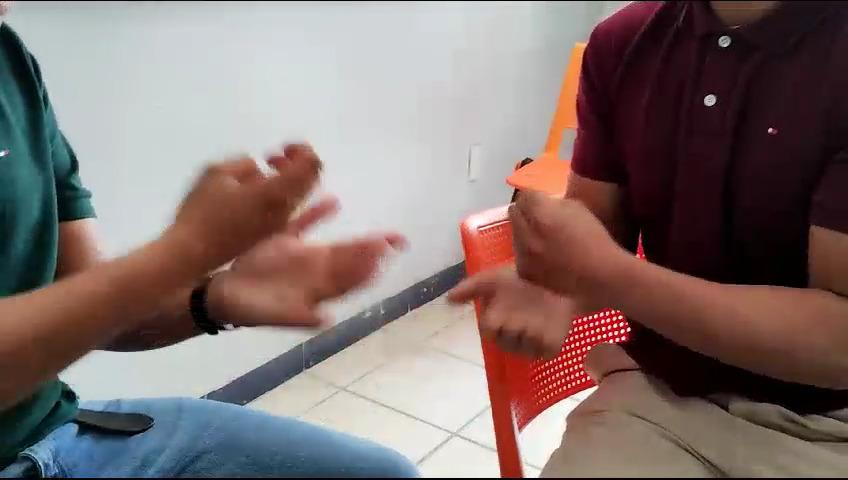Stone: (501, 175, 618, 304)
